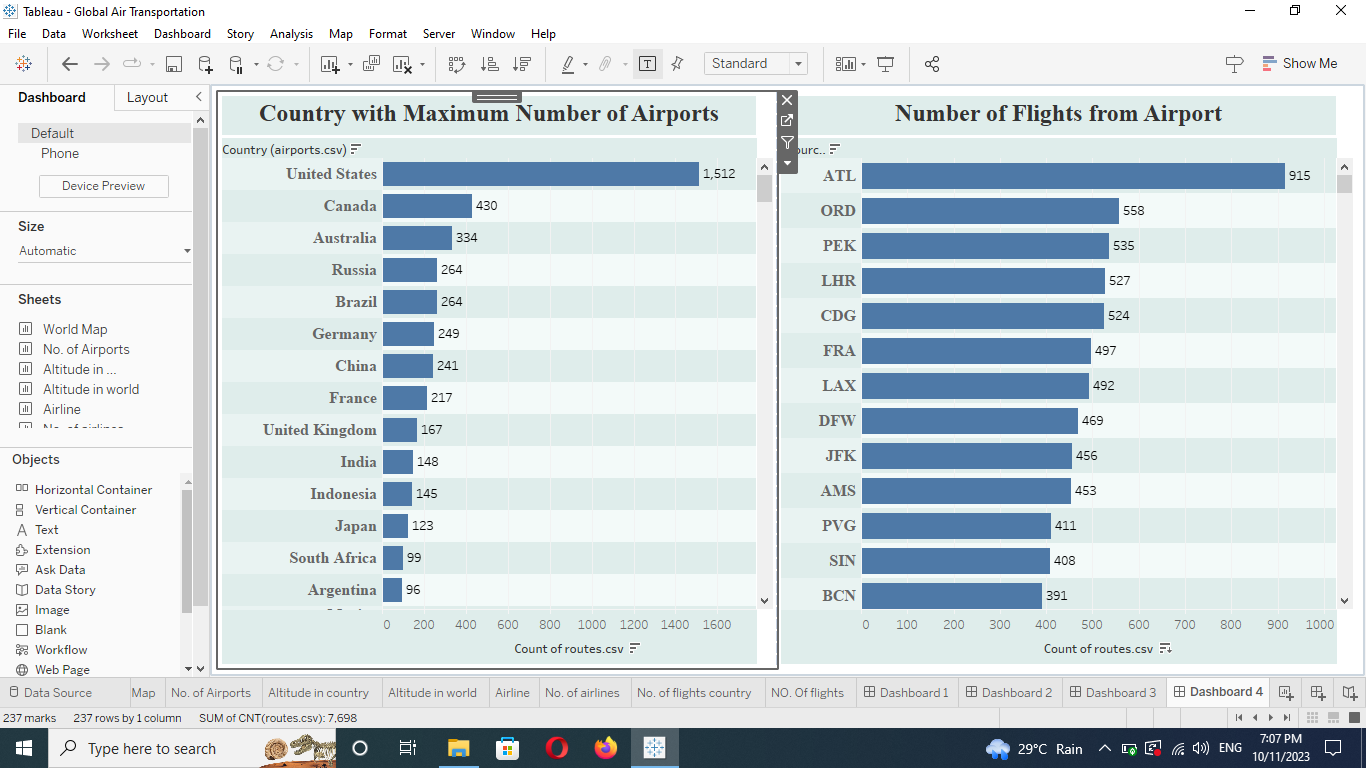

What the dashboard file says about the page in this screenshot:
{"tool":"tableau","page":{"name":"Dashboard 4","canvas":[1000,1000],"units":"permille","ordinal":3},"visuals":[{"type":"worksheet","title":"No. of flights country","mark":"Automatic","rows":["Country (airports.csv)"],"cols":["routes.csv_1FC34CD0C0894C4DB2CD31CA8D420330"],"box":[6.9,13.5,484,973]},{"type":"worksheet","title":"NO. Of flights","mark":"Automatic","rows":["Source airport"],"cols":["routes.csv_1FC34CD0C0894C4DB2CD31CA8D420330"],"box":[490.9,13.5,502.2,973]}]}

Visuals, with their boxes on the dashboard's canvas, which has no fixed pixel size, in thousandths of its width and height (x1, y1, x2, y2). These are canvas units, not pixel positions in the 1366x768 screenshot, which may show the page scaled, cropped or inside an application window:
"No. of flights country" worksheet: select_region(7, 14, 491, 986)
"NO. Of flights" worksheet: select_region(491, 14, 993, 986)
